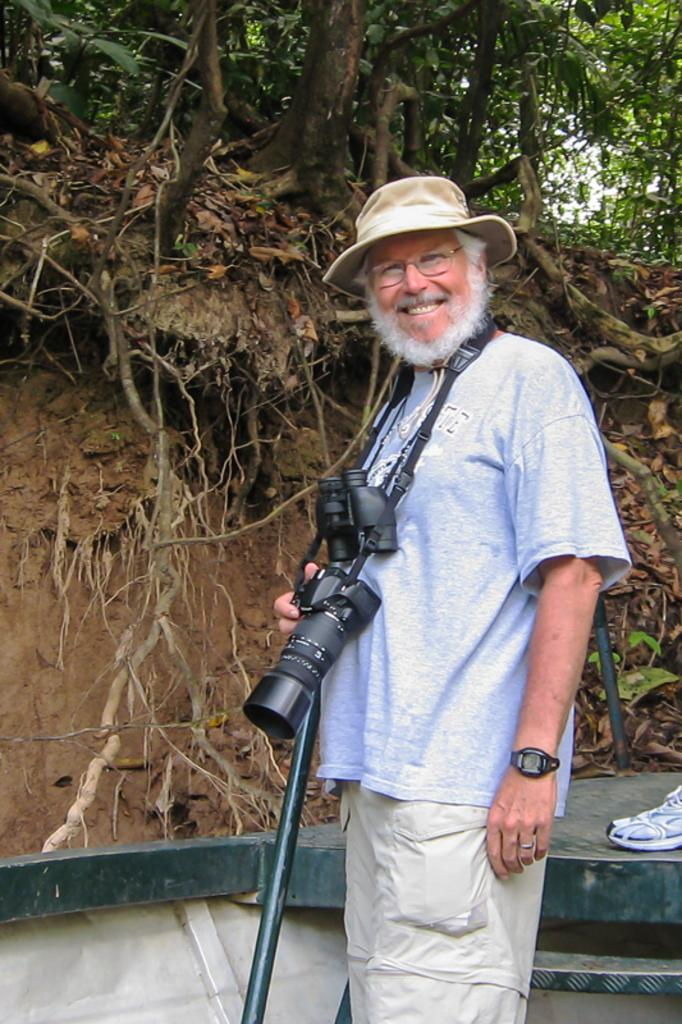Hat: (322, 174, 515, 302)
